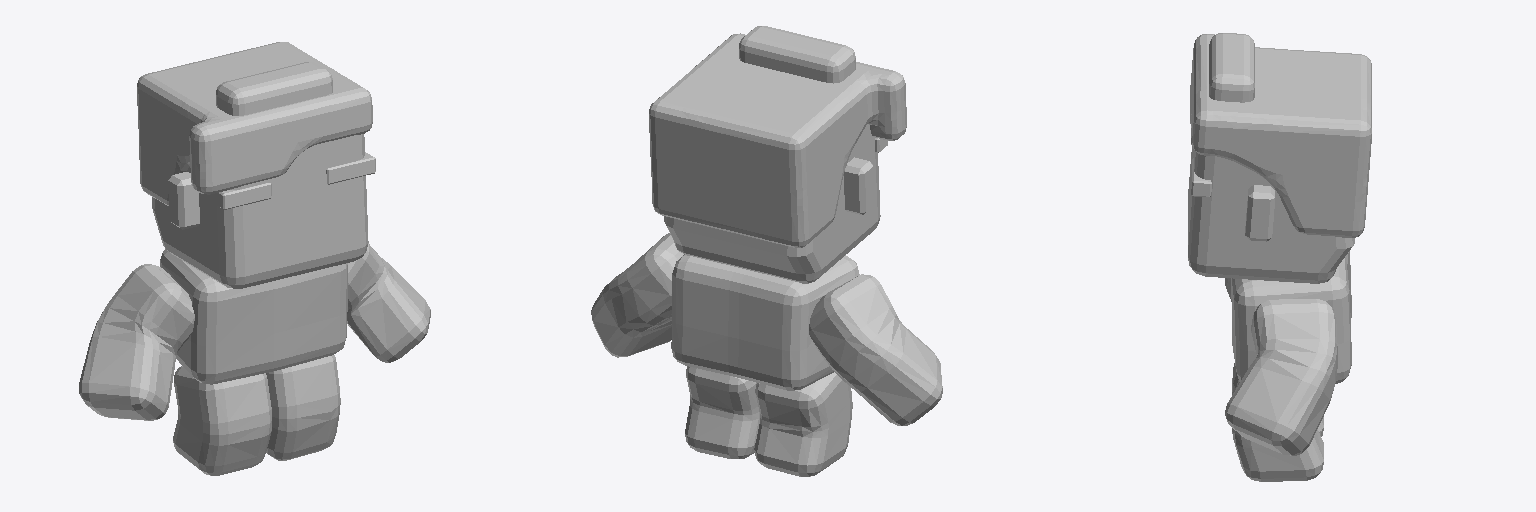
Rendered from Character_Male_1.obj.
3 views of the same model, side by side, from view 1: azimuth 30°, elevation 25°; view 2: azimuth 150°, elevation 25°; view 3: azimuth 270°, elevation 25° (orthographic).
Visible parts, largest first — view 1: Character_Cube.000; view 2: Character_Cube.000; view 3: Character_Cube.000.
Part boxes in pixels (x1,y1,x2,y2): Character_Cube.000: (79, 42, 430, 475); Character_Cube.000: (591, 26, 942, 476); Character_Cube.000: (1188, 33, 1371, 481).
Bounding box in the file's own units: 2.55 × 2.81 × 1.18.